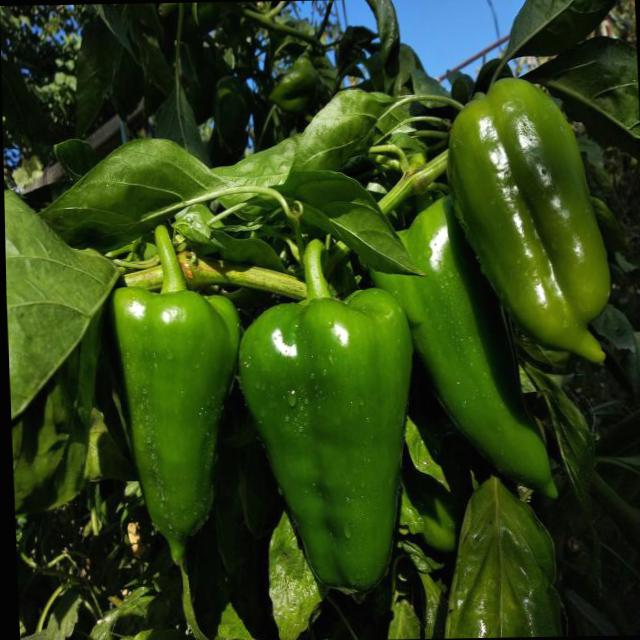Capsicum: (237, 238, 415, 594), (370, 191, 552, 488), (446, 73, 613, 364), (104, 226, 241, 564)
